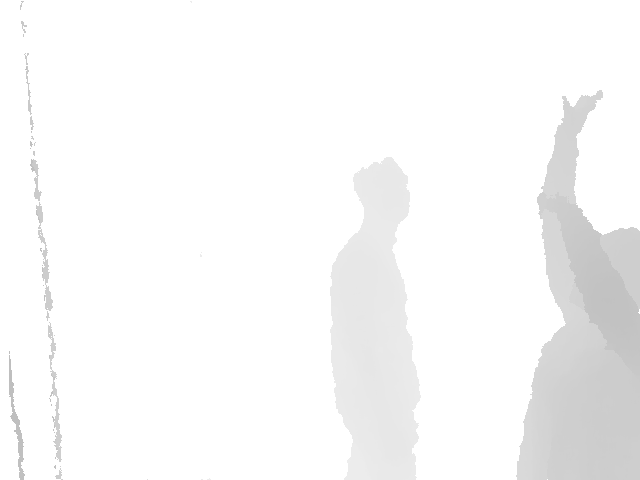hand: (560, 90, 604, 128)
head: (352, 156, 410, 229)
person: (515, 90, 640, 480), (327, 156, 422, 480)
